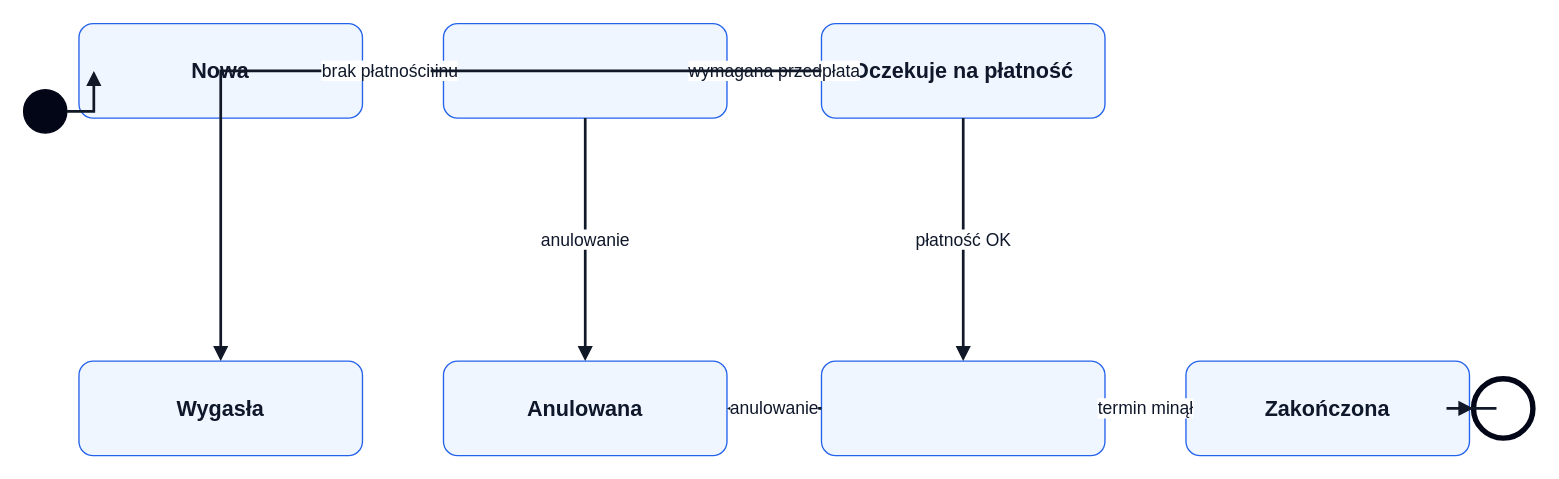
Image size: 1559x479. Some labels were removed from this diagram. The centre of each missing label's shape, as x and y in pixels:
Potwierdzona: the point at 962,408
Tymczasowo zarezerwowana: the point at 584,70
